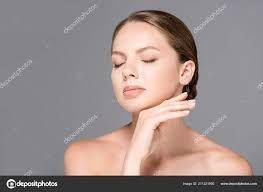no-mask: (106, 17, 200, 113)
